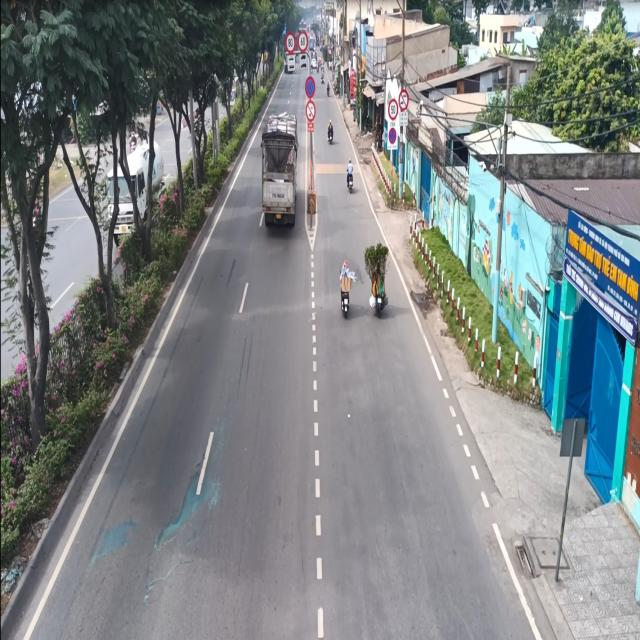motor: (333, 247, 352, 326), (345, 156, 356, 200), (325, 113, 335, 151)
truck: (259, 105, 299, 232)
